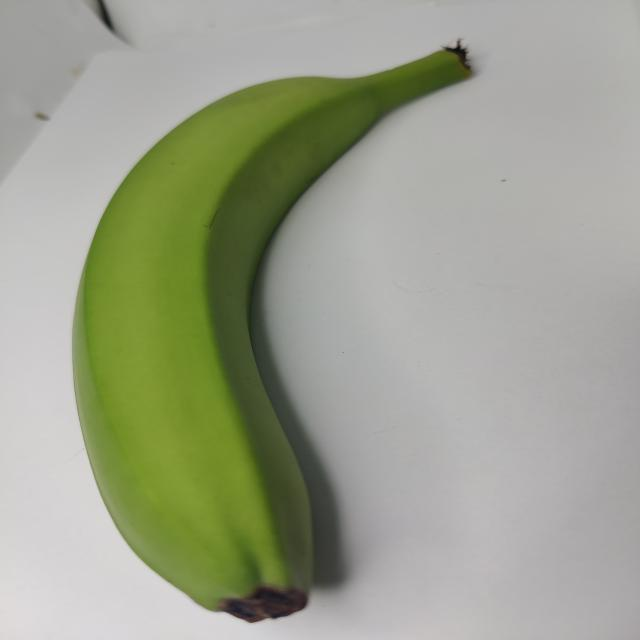raw: (49, 29, 527, 628)
